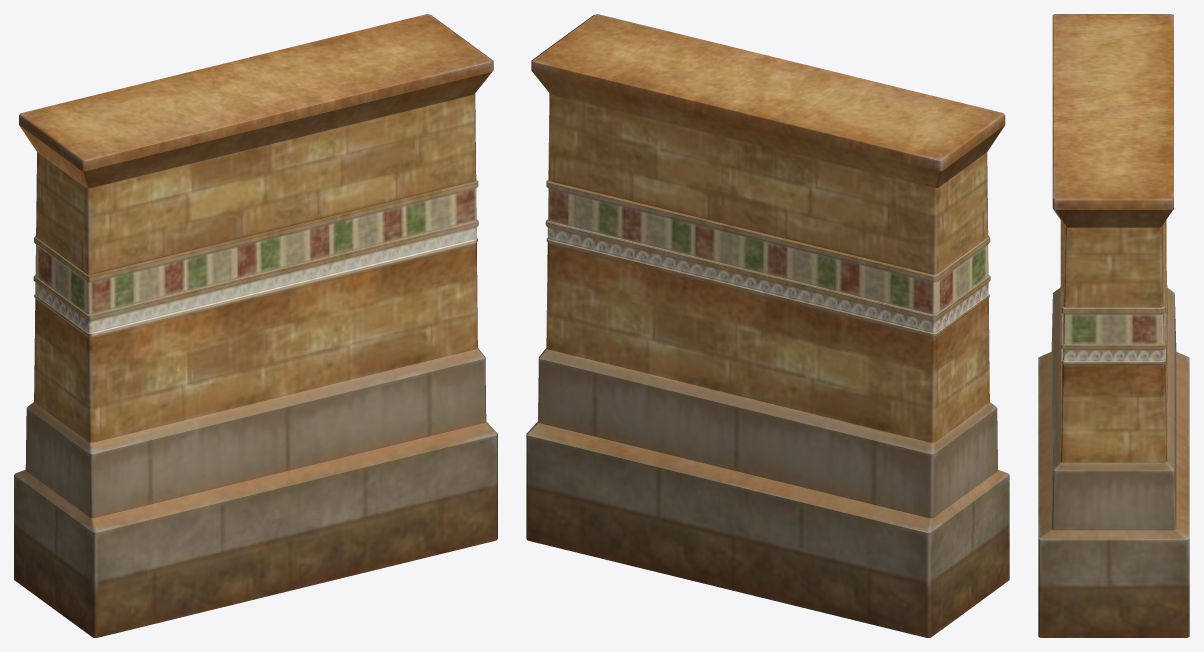
The model's file is 69-fortifiedwall-wall_fortified_e_short.glb.
3 views of the same model, side by side, from view 1: azimuth 30°, elevation 25°; view 2: azimuth 150°, elevation 25°; view 3: azimuth 270°, elevation 25° (orthographic). The views are drawn at different scales.
Size of the model in its own units: 4.54 by 4.98 by 1.55.
Materials: 1 (1 with a texture image).
